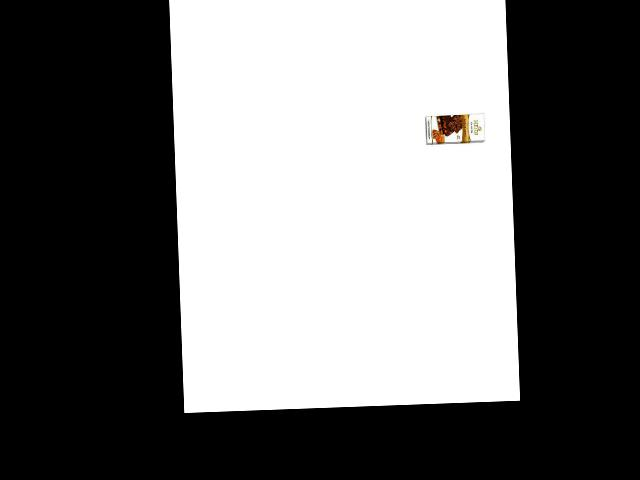chocolate: (423, 112, 487, 146)
